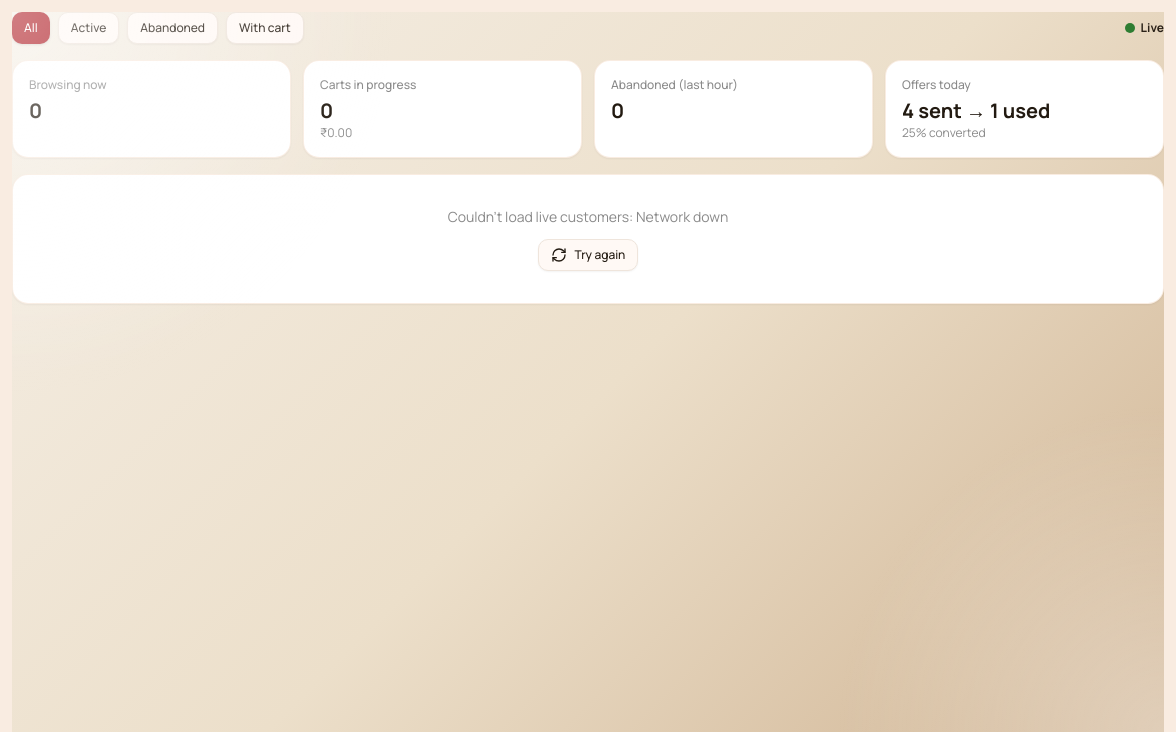
it: states › error, with a retry that works
expect the text "Couldn't load live customers: Network down" is shown: met, box [448,207,728,227]
What coordinates should you click on to do the following:
click the button "Try again"
I would click on:
 (588, 255)
Its box is [538,239,638,271].
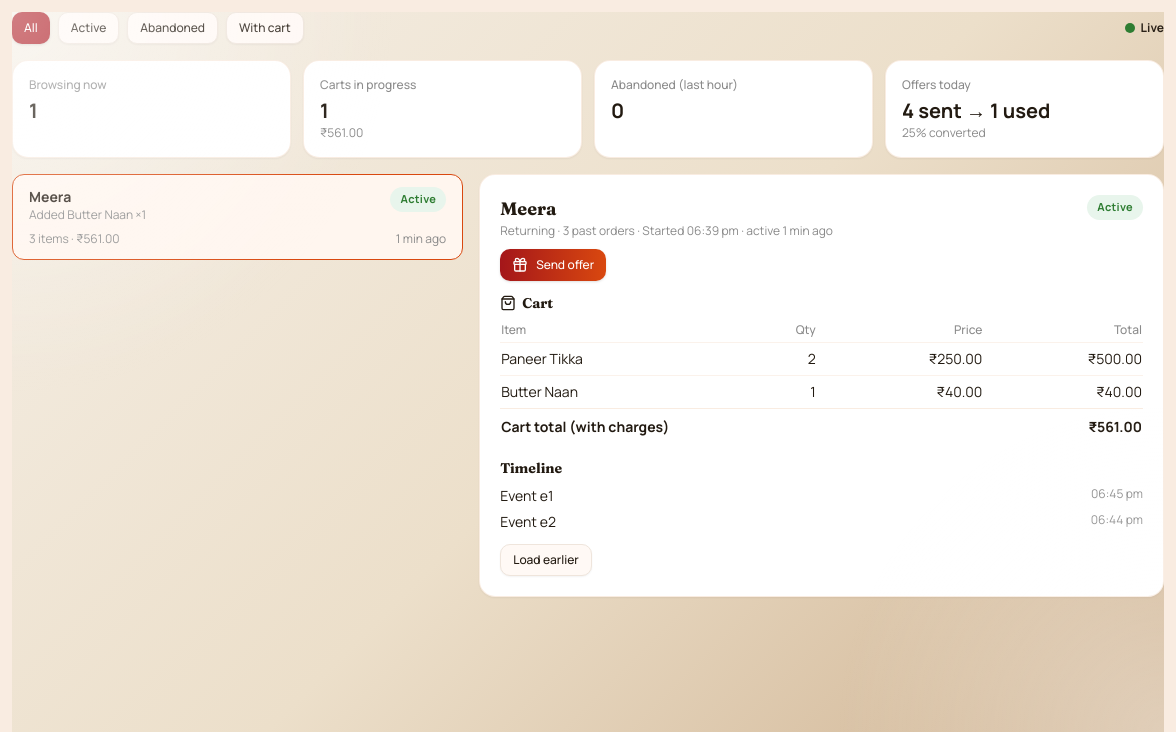
expect the list named "Customers browsing now" is shown: met, box [12,174,463,260]
